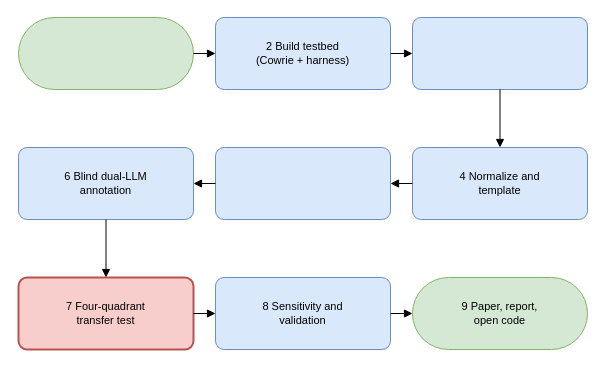
The diagram is 605 pixels wide and 368 high, and some of its shapes have lost their labels. The shapes that lost their labels are listed below. From the top down, each one's box as (x1, y1, x2, y2) in pixels, then its label:
(18, 16, 194, 90): 1 Problem and literature
(412, 16, 588, 90): 3 Collect data (120 synthetic + CyberLab real)
(214, 146, 390, 220): 5 Label-free comparison
